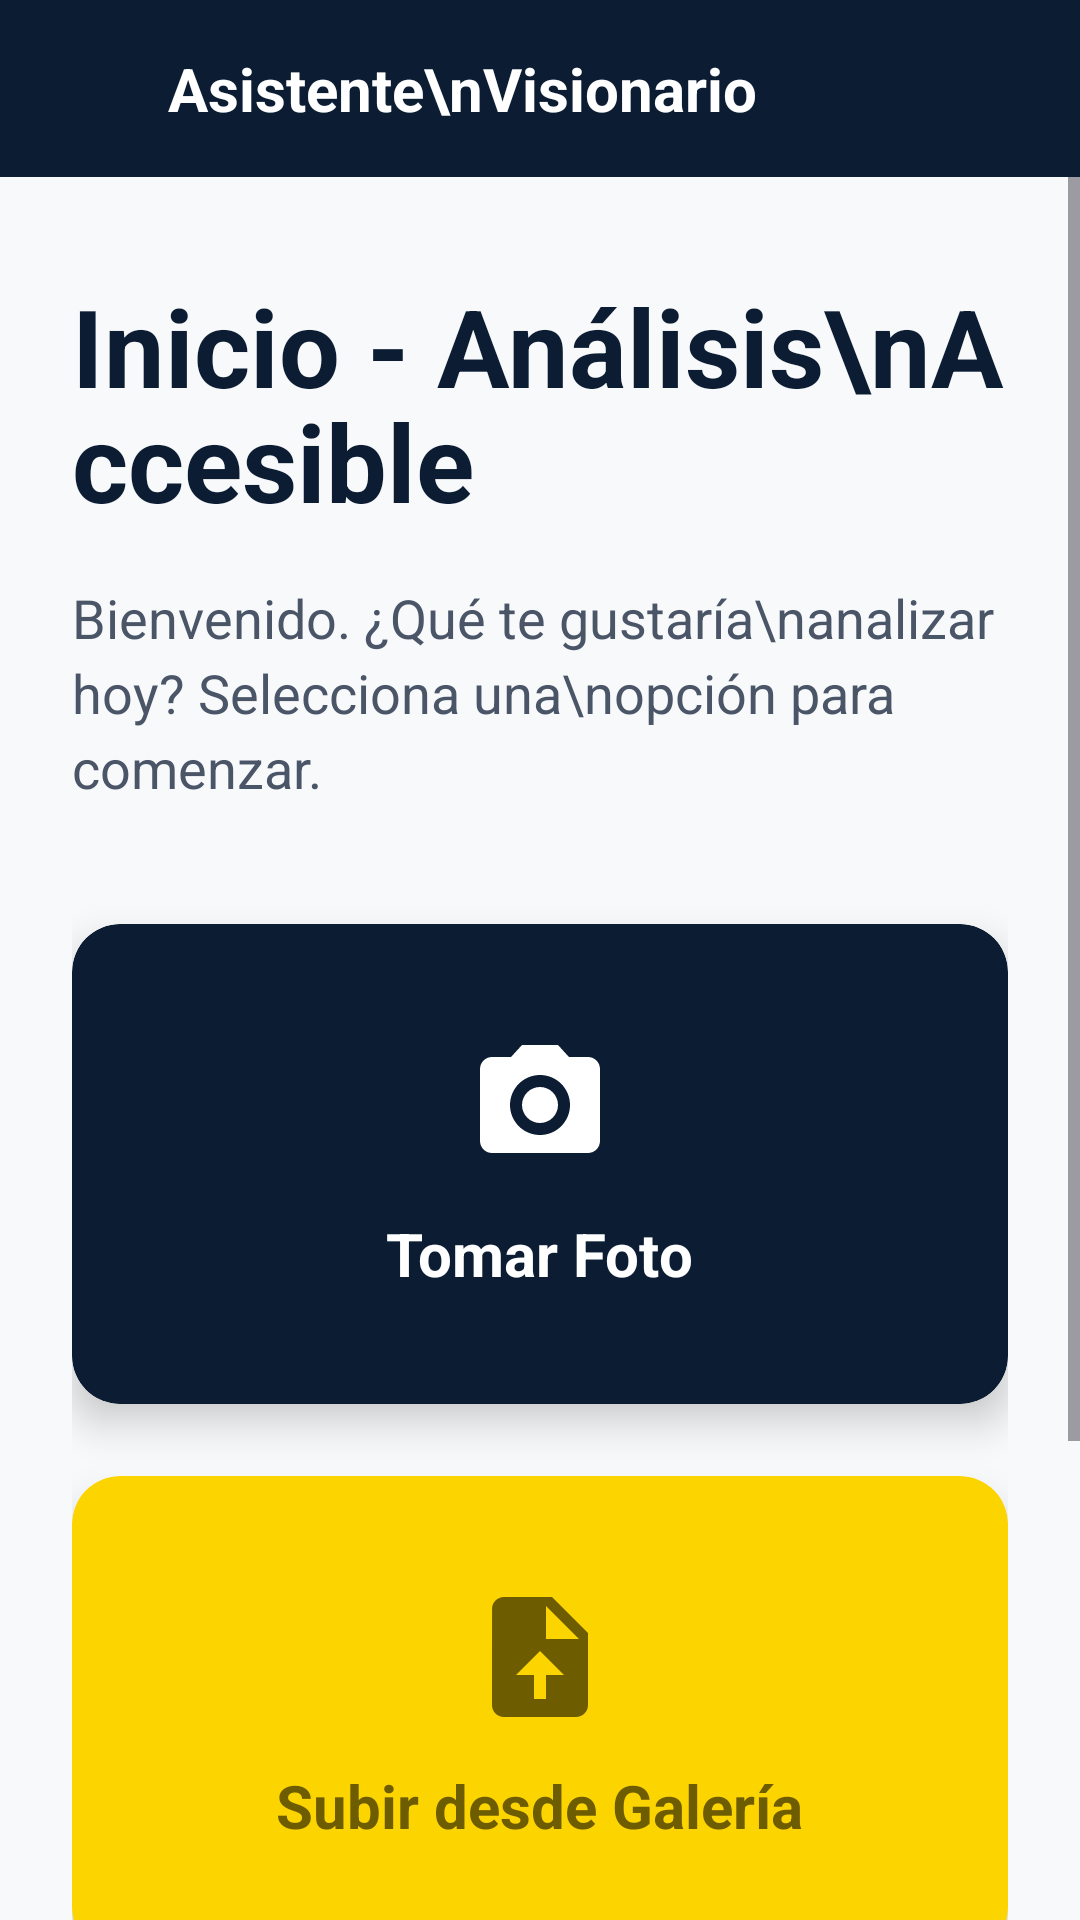

Named icons in this screenshot (1080*1920) and their centers, point (x, y):
camera: point (540, 1099)
upload file: point (540, 1657)
